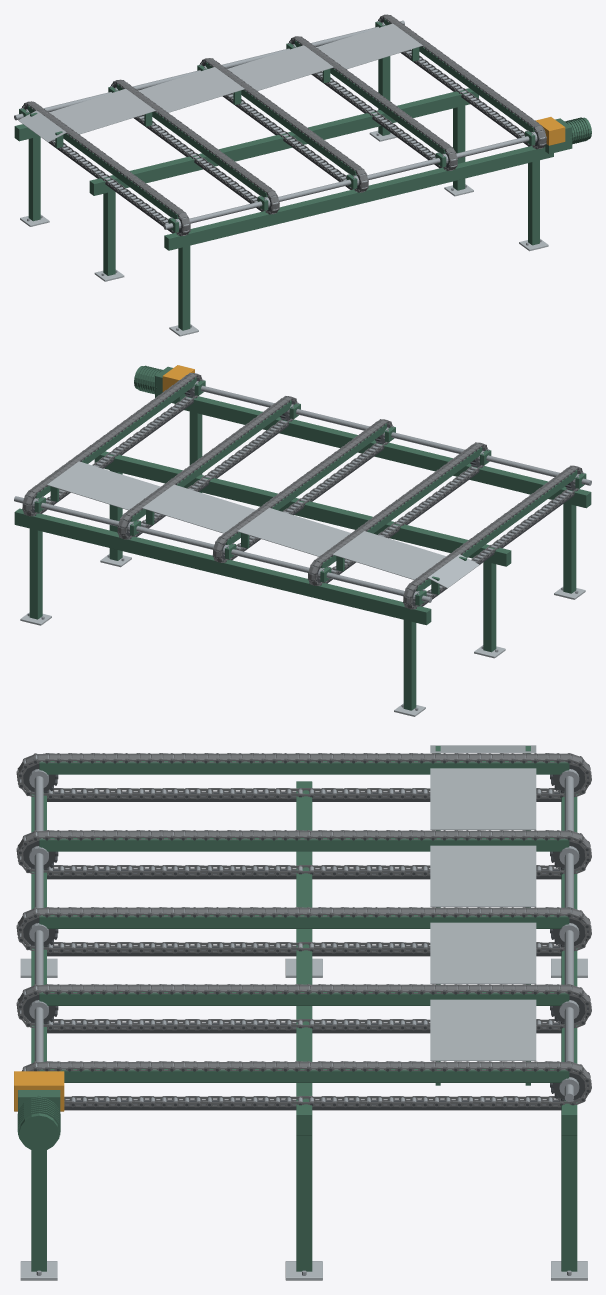
The model's file is landing_deck_frame.glb.
The picture shows the model from 3 angles, top to bottom: view 1: azimuth 30°, elevation 25°; view 2: azimuth 150°, elevation 25°; view 3: azimuth 270°, elevation 25°; orthographic projection. The views are drawn at different scales.
Parts seen in each view (by area): view 1: Structure_Forest, Structure_Brushed, DriveShaft_1, Structure_Oiled, DriveShaft_0, Structure_Safety; view 2: Structure_Forest, Structure_Brushed, DriveShaft_0, DriveShaft_1, Structure_Oiled; view 3: Structure_Forest, Structure_Brushed, Structure_Oiled, DriveShaft_0, DriveShaft_1, Structure_Safety.
Boxes of the visible parts, x1,y1,x2,y2 form: Structure_Forest: (14, 19, 591, 330); Structure_Brushed: (18, 23, 548, 336); DriveShaft_1: (163, 126, 541, 232); Structure_Oiled: (48, 51, 529, 233); DriveShaft_0: (14, 19, 404, 120); Structure_Safety: (535, 117, 565, 145); Structure_Forest: (14, 365, 591, 710); Structure_Brushed: (20, 461, 585, 716); DriveShaft_0: (14, 496, 431, 606); DriveShaft_1: (184, 377, 591, 490); Structure_Oiled: (40, 400, 574, 606); Structure_Forest: (17, 746, 577, 1271); Structure_Brushed: (20, 745, 587, 1280); Structure_Oiled: (47, 792, 561, 1110); DriveShaft_0: (550, 761, 588, 1101); DriveShaft_1: (20, 761, 58, 1069); Structure_Safety: (14, 1071, 64, 1111).
Bounding box in the file's own units: 6.61 × 1.76 × 4.36.
